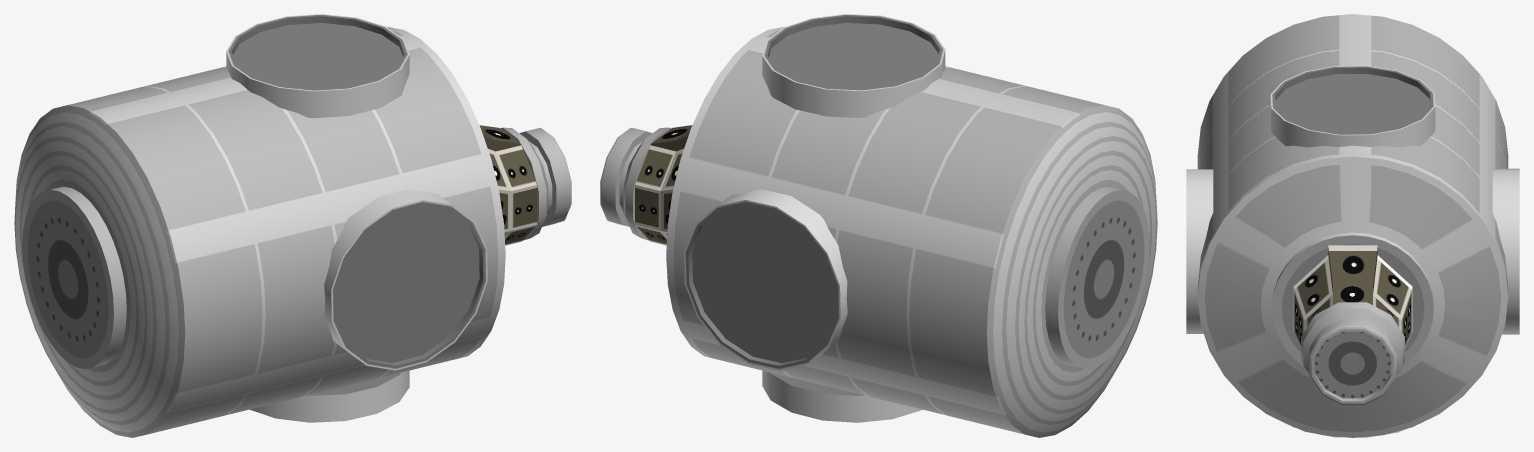
File: iss_tranquility.fbx
3 views of the same model, side by side, from view 1: azimuth 30°, elevation 25°; view 2: azimuth 150°, elevation 25°; view 3: azimuth 270°, elevation 25° (orthographic). The views are drawn at different scales.
Visible parts, largest first — view 1: tranquility; view 2: tranquility; view 3: tranquility.
Part boxes in pixels (x1,y1,x2,y2): tranquility: (14,14,571,437); tranquility: (600,14,1157,437); tranquility: (1186,14,1519,437).
Bounding box in the file's own units: 7.5 × 4.94 × 4.94.
